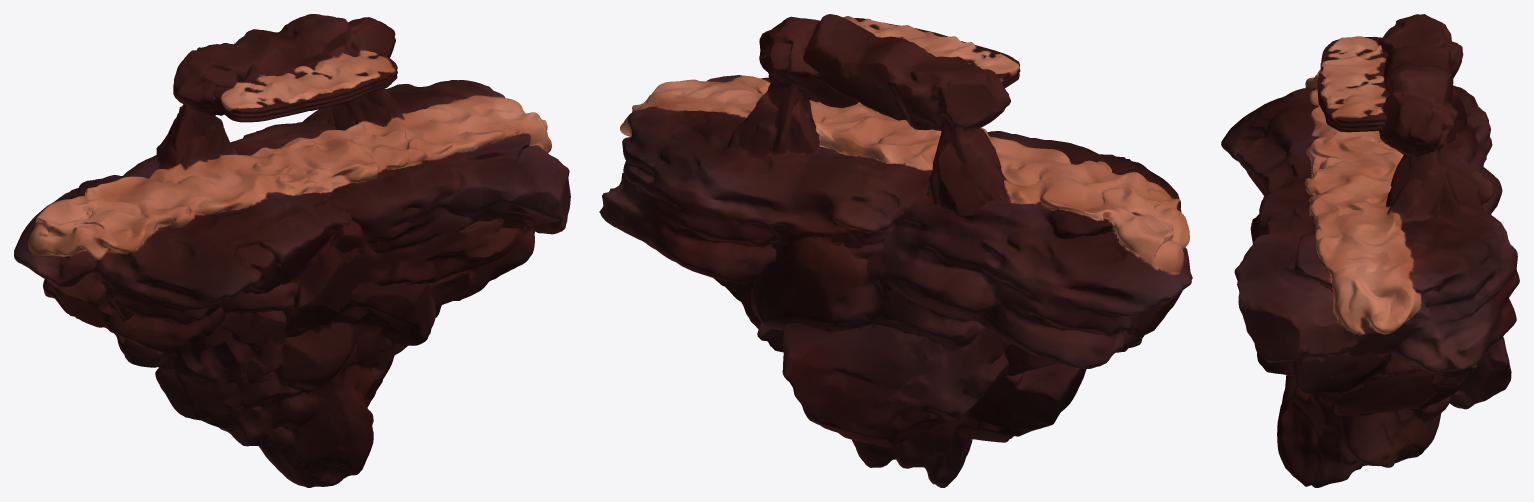
Rendered from Desert.fbx.
The picture shows the model from 3 angles, left to right: view 1: azimuth 30°, elevation 25°; view 2: azimuth 150°, elevation 25°; view 3: azimuth 270°, elevation 25°; orthographic projection. The views are drawn at different scales.
Visible parts, largest first — view 1: Stage; view 2: Stage; view 3: Stage.
Boxes of the visible parts, bbox=[...] form: Stage: bbox=[14, 14, 570, 487]; Stage: bbox=[599, 14, 1192, 487]; Stage: bbox=[1221, 14, 1519, 487].
Size of the model in its own units: 7.6 by 3.72 by 6.07.
